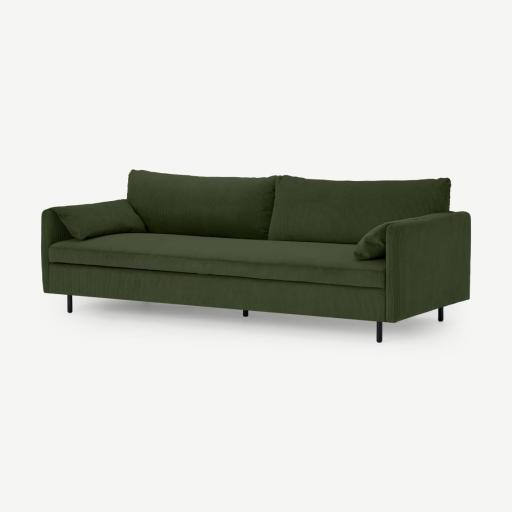back_cushion: (54, 170, 450, 244)
base: (49, 263, 387, 321)
left_arm: (369, 212, 470, 322)
legs: (376, 322, 382, 343), (67, 295, 73, 313), (439, 307, 442, 321), (243, 310, 248, 317)
right_arm: (42, 209, 74, 292)
seat_cushion: (43, 233, 385, 288)
two-seater: (0, 0, 511, 512)
